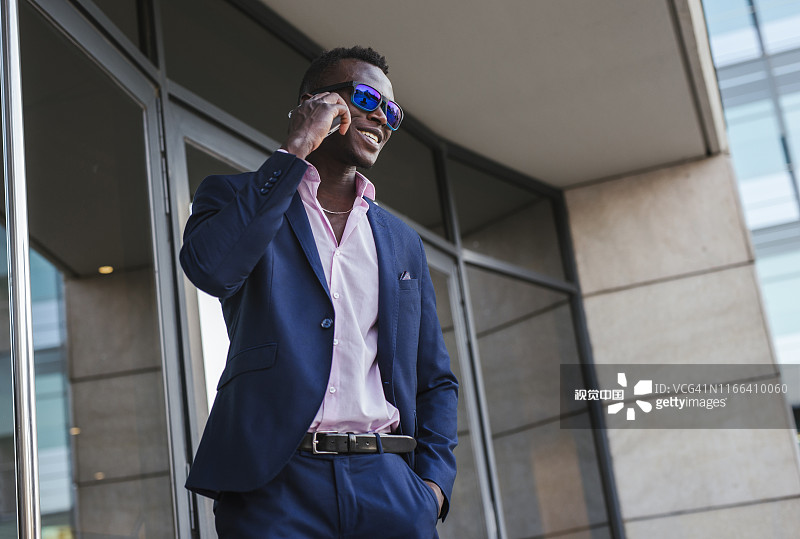calling: (274, 79, 362, 181)
